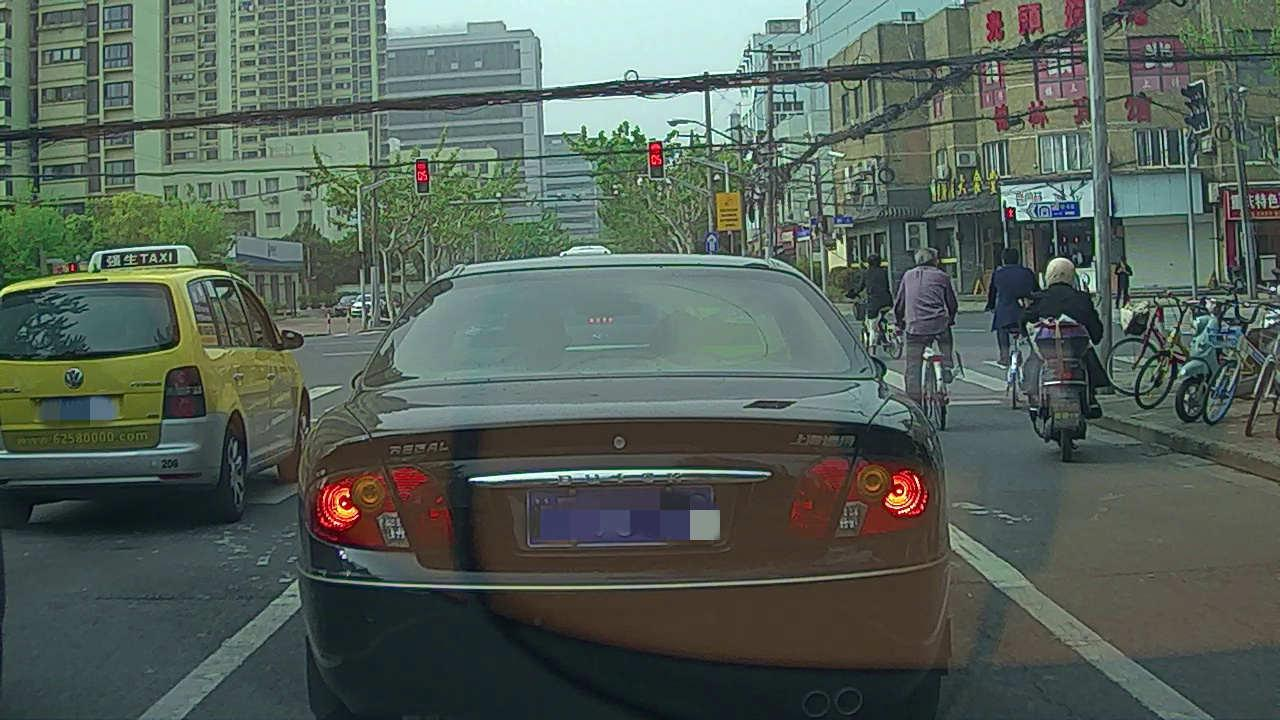traffic_light: (415, 158, 429, 195), (650, 142, 663, 179)
